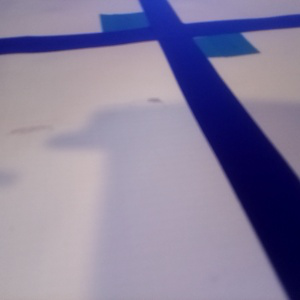bottom_right: (168, 24, 260, 57)
top_left: (100, 12, 174, 40)
